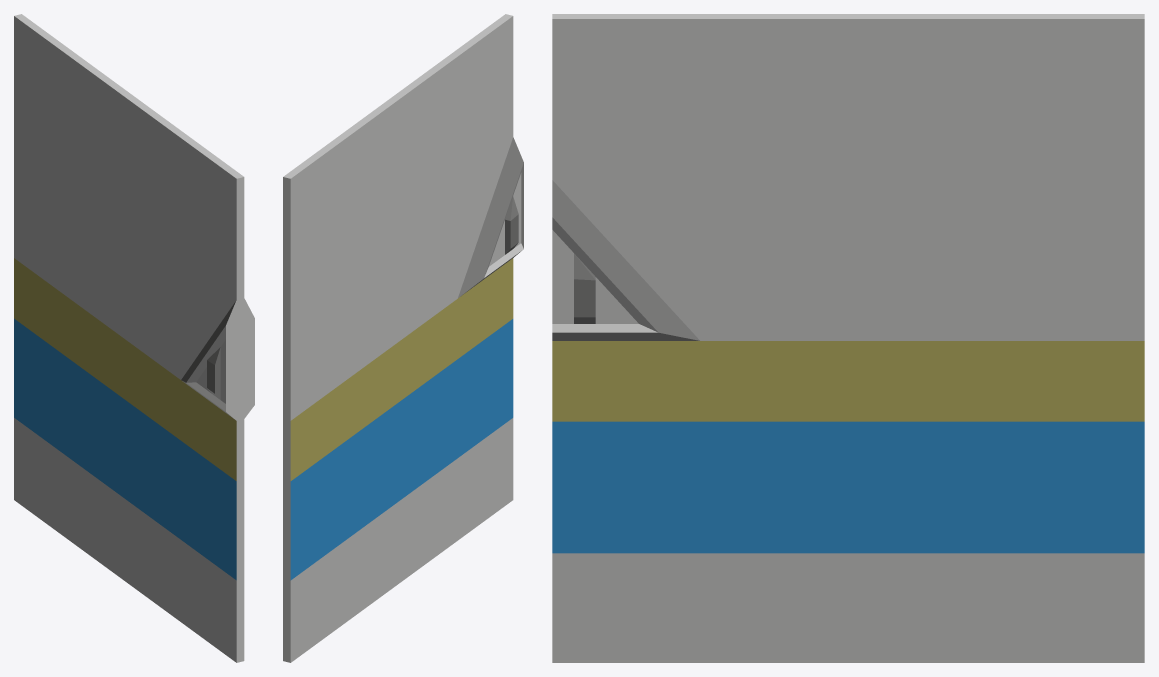
The model's file is SM_Door.fbx.
The picture shows the model from 3 angles, left to right: view 1: azimuth 30°, elevation 25°; view 2: azimuth 150°, elevation 25°; view 3: azimuth 270°, elevation 25°; orthographic projection. The views are drawn at different scales.
Parts seen in each view (by area): view 1: SM_DoorLeft.001; view 2: SM_DoorLeft.001; view 3: SM_DoorLeft.001.
Part boxes in pixels (x1=…): SM_DoorLeft.001: x1=14, y1=14, x2=254, y2=662; SM_DoorLeft.001: x1=283, y1=14, x2=523, y2=662; SM_DoorLeft.001: x1=552, y1=14, x2=1144, y2=662.
Size of the model in its own units: 45.06 by 600 by 500.
